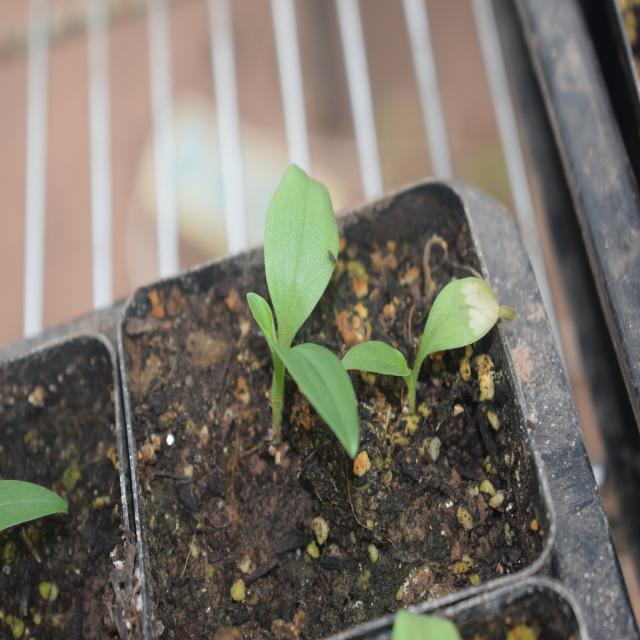Common Dayflower: (244, 164, 378, 466)
